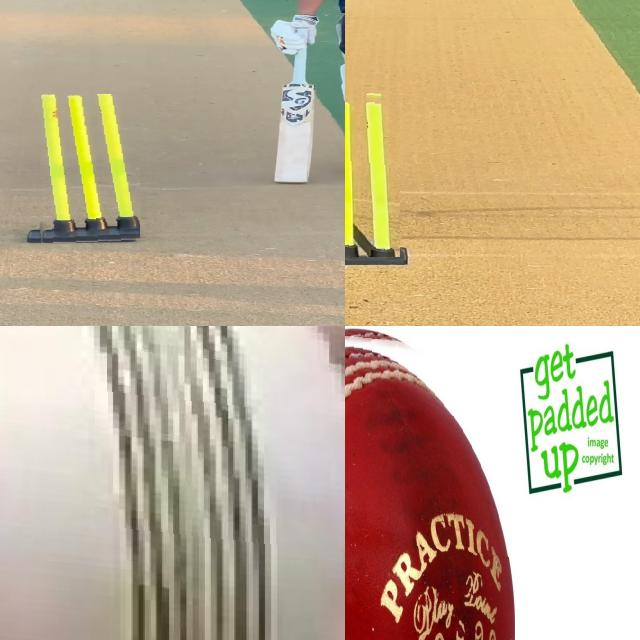Cricket ball: (0, 326, 345, 640), (345, 326, 514, 640)
Stumps: (26, 94, 140, 244), (345, 85, 400, 257)
